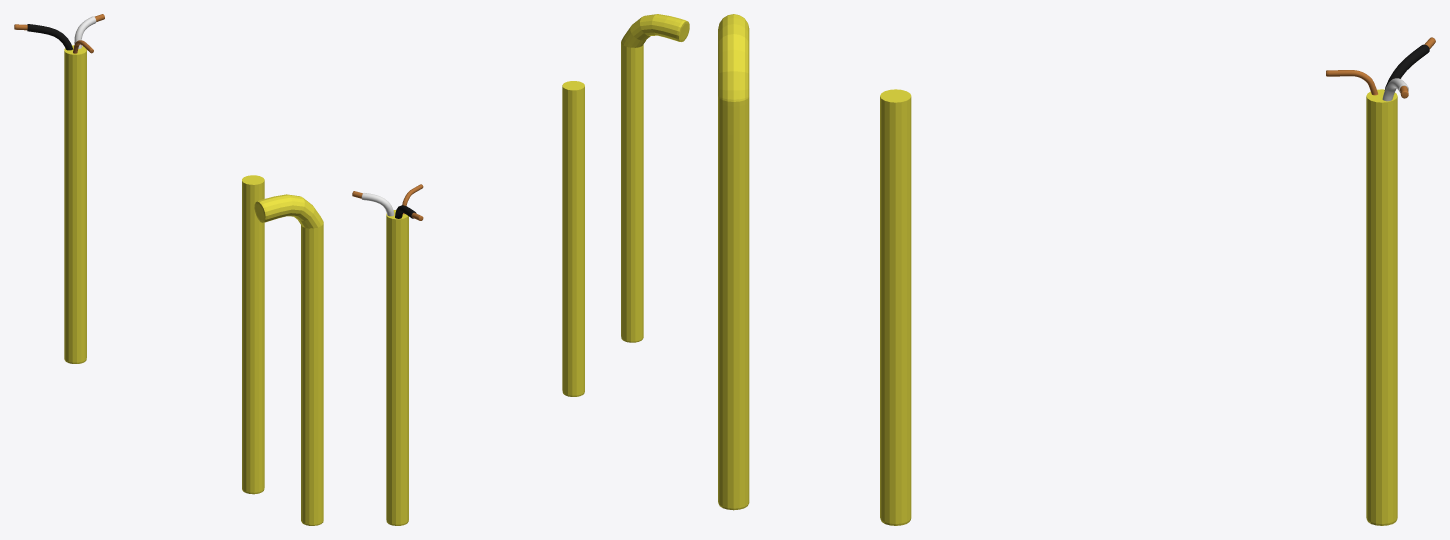
Rendered from WireSetV2.fbx.
3 views of the same model, side by side, from view 1: azimuth 30°, elevation 25°; view 2: azimuth 150°, elevation 25°; view 3: azimuth 270°, elevation 25° (orthographic). The views are drawn at different scales.
Visible parts, largest first — view 1: Cylinder.001, Cylinder, Cylinder.002; view 2: Cylinder.001, Cylinder, Cylinder.002; view 3: Cylinder.001, Cylinder, Cylinder.002.
Part boxes in pixels (x1,y1,x2,y2): Cylinder.001: [254, 194, 323, 525]; Cylinder: [14, 14, 104, 363]; Cylinder.002: [242, 175, 264, 494]; Cylinder.001: [621, 14, 689, 342]; Cylinder: [352, 184, 423, 525]; Cylinder.002: [562, 81, 584, 396]; Cylinder.001: [718, 14, 749, 510]; Cylinder: [1326, 37, 1435, 525]; Cylinder.002: [880, 89, 911, 525].
Bounding box in the file's own units: 248 × 909 × 1254.
